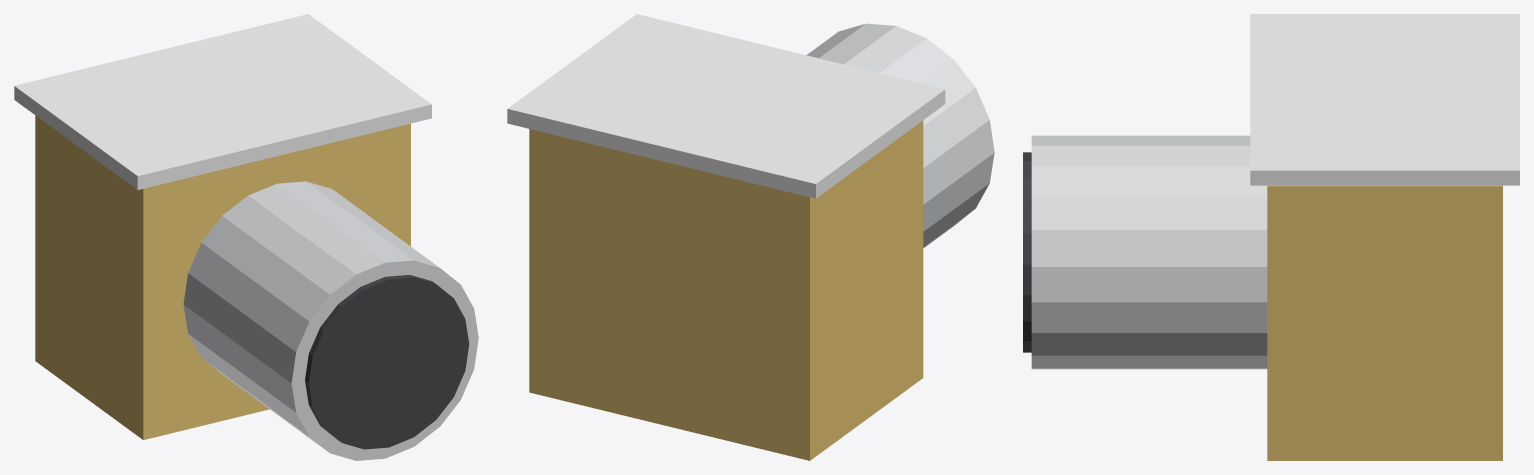
Rendered from ins_tir.fbx.
3 renders of one model, left to right at view 1: azimuth 30°, elevation 25°; view 2: azimuth 150°, elevation 25°; view 3: azimuth 270°, elevation 25°, orthographic. The views are drawn at different scales.
Parts seen in each view (by area): view 1: ins_tir; view 2: ins_tir; view 3: ins_tir.
Part boxes in pixels (x1,y1,x2,y2): ins_tir: (14,14,478,460); ins_tir: (507,14,994,460); ins_tir: (1023,14,1519,460).
Bounding box in the file's own units: 0.22 × 0.195 × 0.295.
